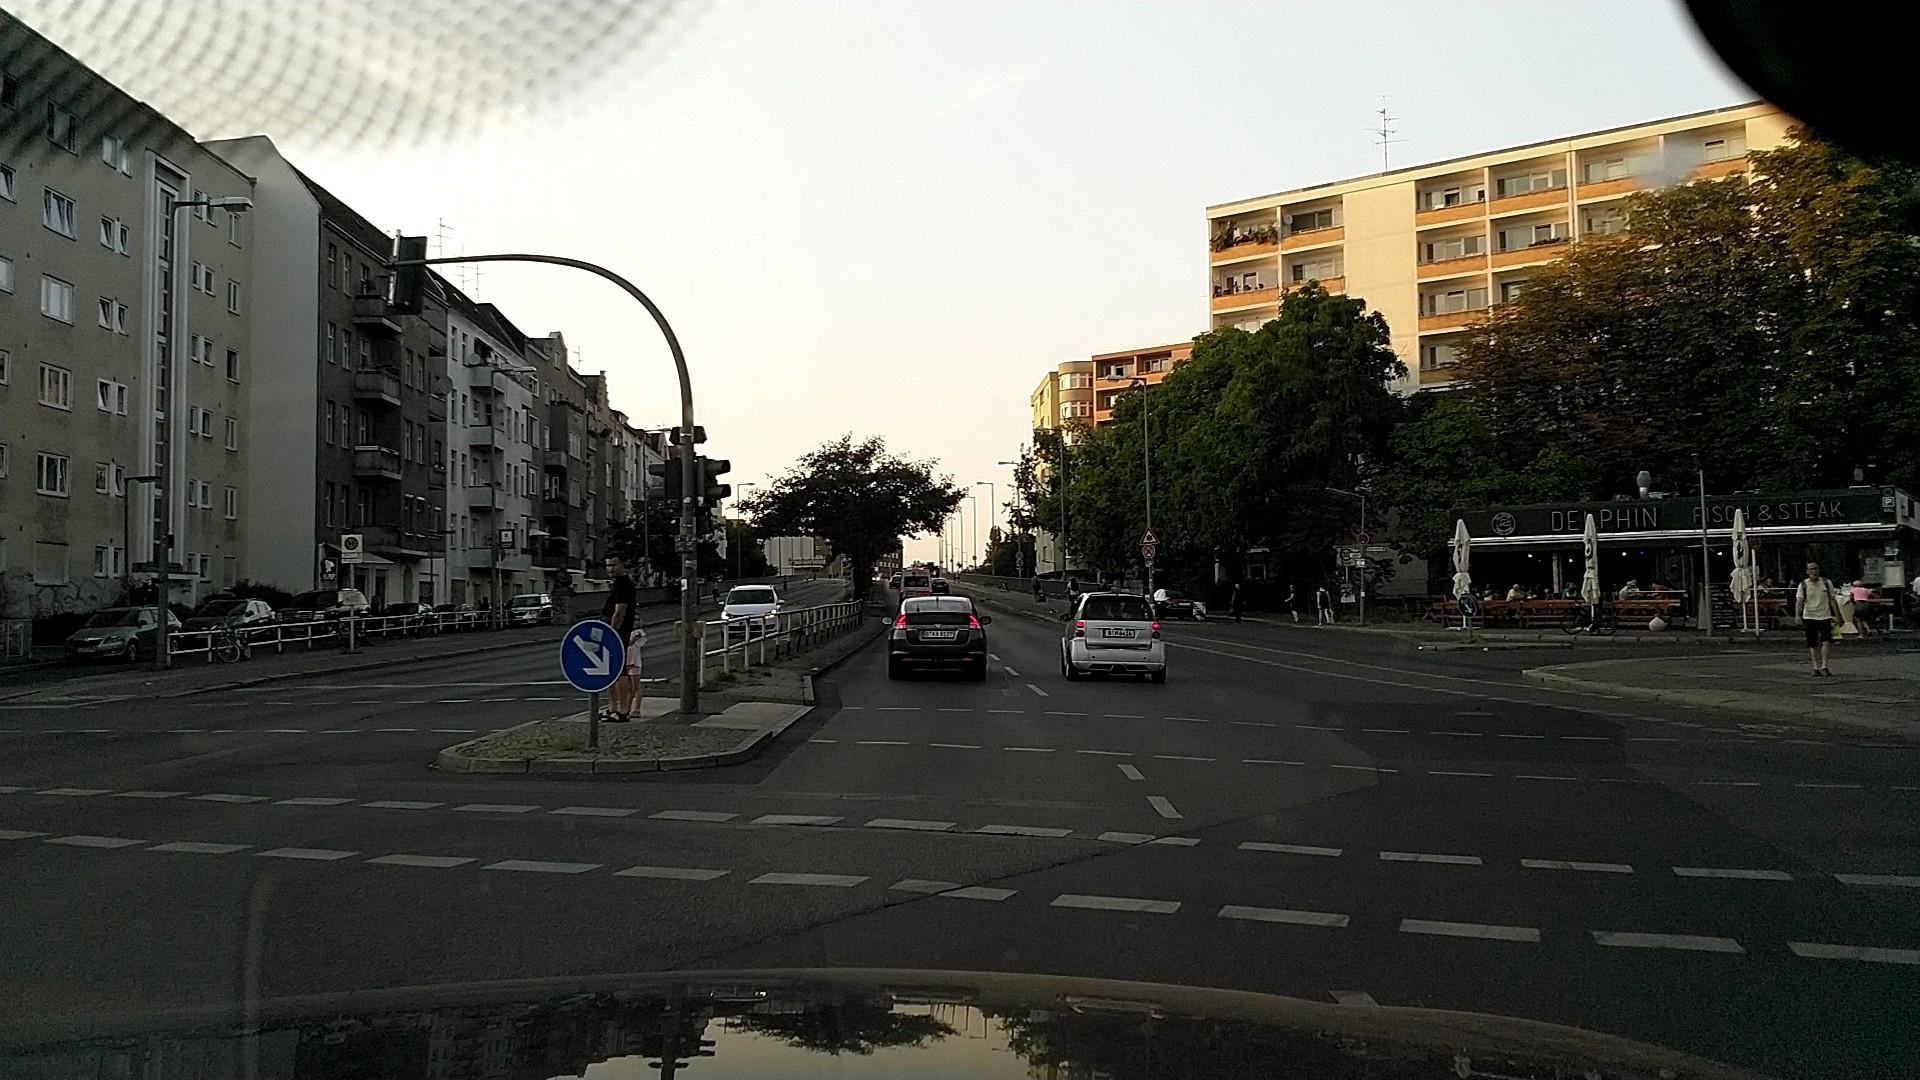Human face: (604, 553, 624, 578), (1806, 562, 1820, 580), (631, 613, 643, 631), (1289, 584, 1295, 592), (1235, 583, 1241, 590)
Vehicle registration plate: (922, 629, 954, 639), (1103, 629, 1135, 638), (77, 647, 95, 652)
